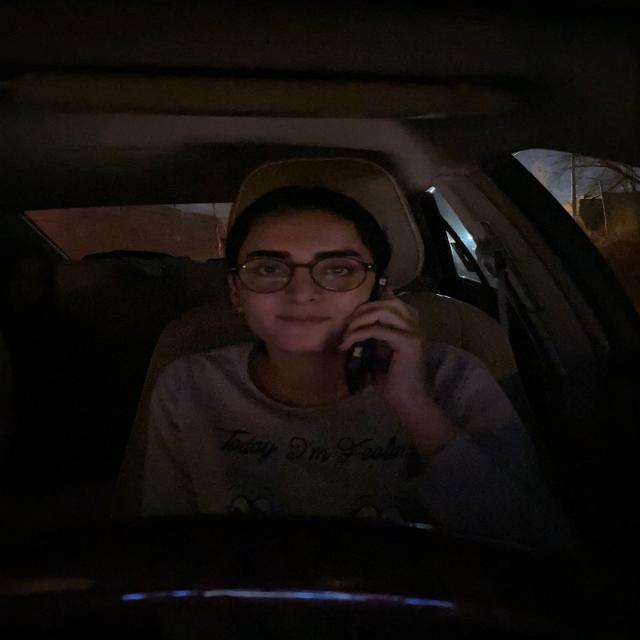mobile: (340, 269, 388, 396)
person: (216, 191, 389, 361)
